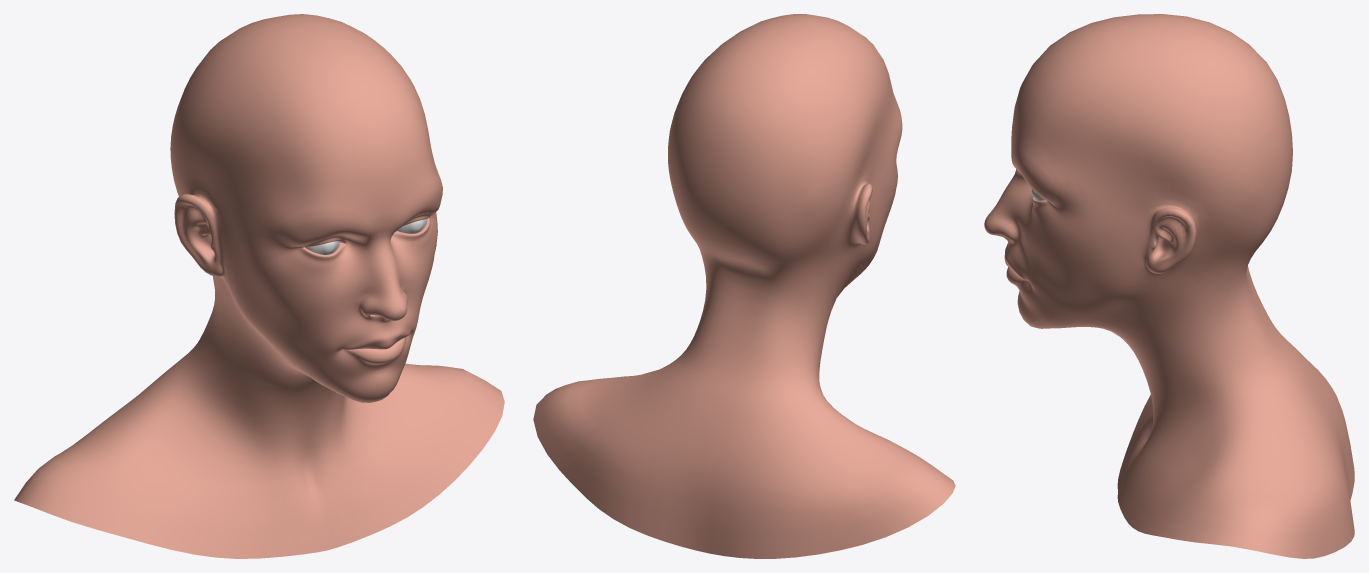
The model's file is Head.fbx.
3 renders of one model, left to right at view 1: azimuth 30°, elevation 25°; view 2: azimuth 150°, elevation 25°; view 3: azimuth 270°, elevation 25°, orthographic. The views are drawn at different scales.
Parts seen in each view (by area): view 1: Base_mesh_woman_subdiv; view 2: Base_mesh_woman_subdiv; view 3: Base_mesh_woman_subdiv.
Part boxes in pixels (x1,y1,x2,y2): Base_mesh_woman_subdiv: [14, 14, 504, 558]; Base_mesh_woman_subdiv: [533, 14, 955, 558]; Base_mesh_woman_subdiv: [984, 14, 1354, 558].
Bounding box in the file's own units: 33.18 × 35.4 × 24.33.
